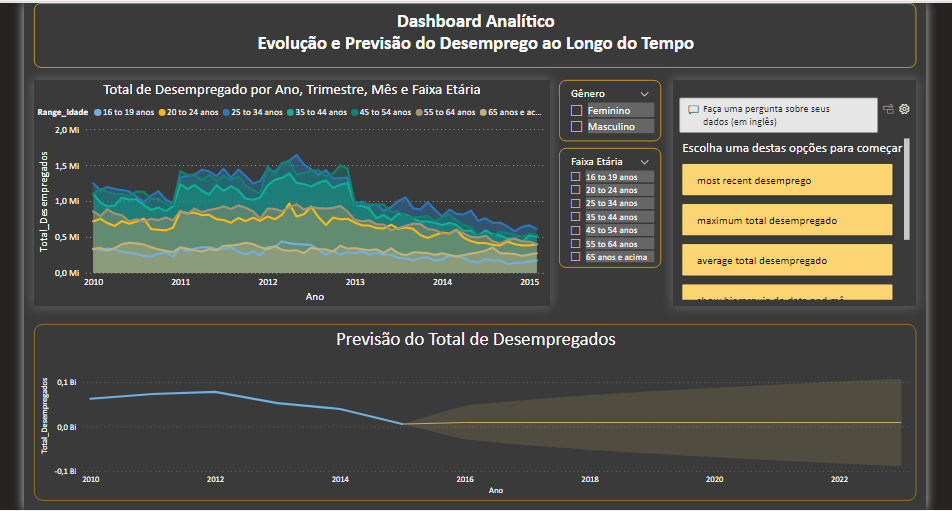

What the dashboard file says about the page in this screenshot:
{"tool":"powerbi","page":{"name":"Página 1","canvas":[1280,720],"ordinal":0},"visuals":[{"type":"areaChart","title":"Total de Desempregado por Ano, Trimestre, Mês e Faixa Etária","fields":{"Category":["Desemprego.Periodo.Variation.Hierarquia de datas.Ano","Desemprego.Periodo.Variation.Hierarquia de datas.Trimestre","Desemprego.Periodo.Variation.Hierarquia de datas.Mês","Desemprego.Periodo.Variation.Hierarquia de datas.Dia"],"Y":["Sum(Desemprego.Total_Desempregados)"],"Series":["Desemprego.Range_Idade"]},"box":[14.2,109.3,732.8,320.9],"z":0},{"type":"lineChart","title":"Previsão do Total de Desempregados","fields":{"Category":["Desemprego.Periodo.Variation.Hierarquia de datas.Ano","Desemprego.Periodo.Variation.Hierarquia de datas.Trimestre","Desemprego.Periodo.Variation.Hierarquia de datas.Mês","Desemprego.Periodo.Variation.Hierarquia de datas.Dia"],"Y":["Sum(Desemprego.Total_Desempregados)"]},"box":[14.2,455.9,1252.5,251.4],"z":1000},{"type":"slicer","fields":{"Values":["Desemprego.Sexo"]},"box":[759.8,109.3,144.9,86.6],"z":2000},{"type":"slicer","fields":{"Values":["Desemprego.Range_Idade"]},"box":[759.8,205.9,144.9,170.4],"z":3000},{"type":"qnaVisual","box":[921.7,109.3,345.1,320.9],"z":4000},{"type":"textbox","box":[14.2,0,1252.5,92.3],"z":5000}]}

Visuals, with their boxes in screenshot pixels (x1, y1, x2, y2):
"Total de Desempregado por Ano, Trimestre, Mês e Faixa Etária" areaChart: rect(18, 79, 549, 312)
"Previsão do Total de Desempregados" lineChart: rect(18, 331, 926, 510)
slicer - Desemprego.Sexo: rect(558, 79, 664, 142)
slicer - Desemprego.Range_Idade: rect(558, 149, 664, 273)
qnaVisual: rect(676, 79, 926, 312)
textbox: rect(18, 0, 926, 67)
